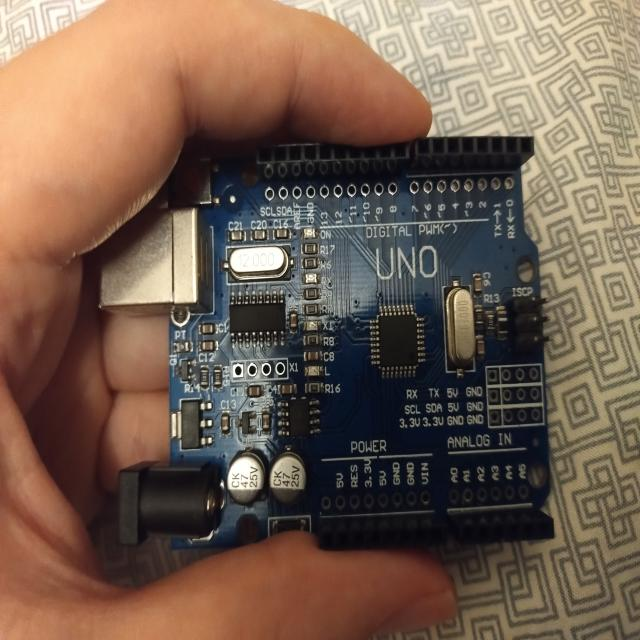arduino: (84, 130, 566, 554)
